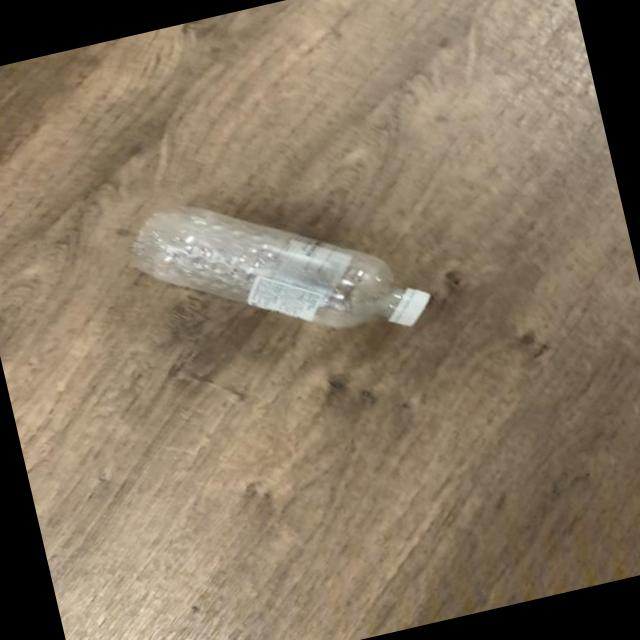plastic_bottle: (120, 156, 438, 385)
